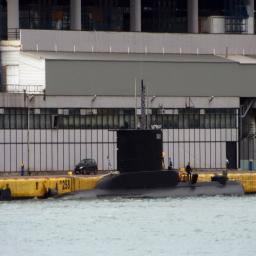submarine: (55, 129, 247, 201)
